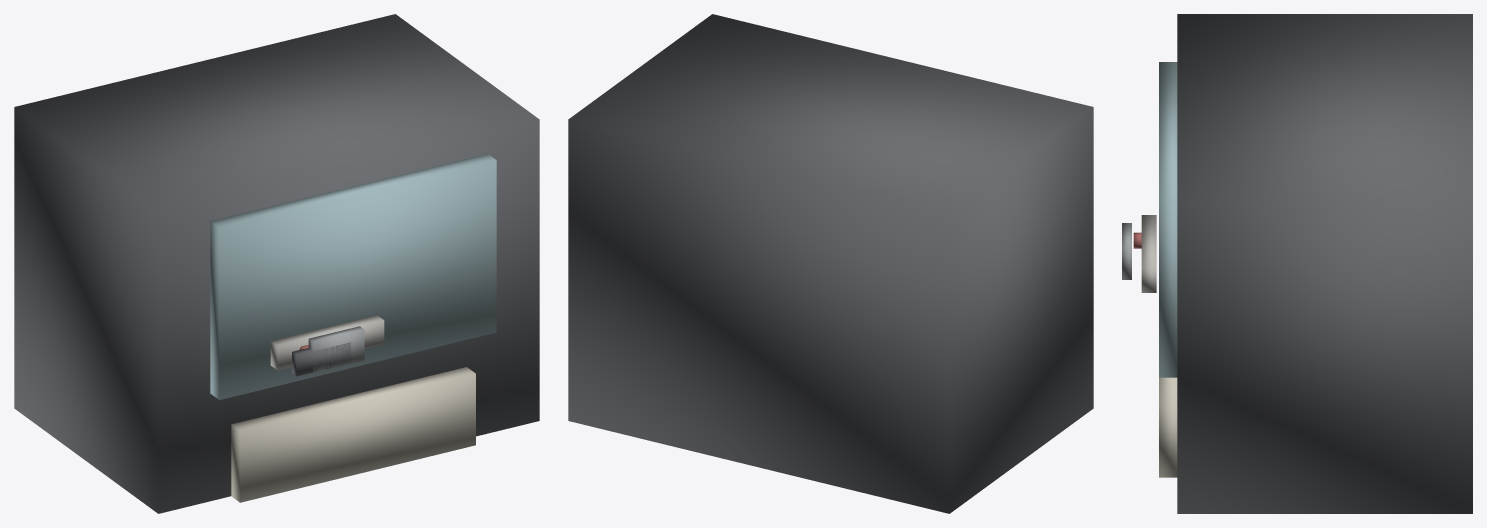
Rendered from microfilm_reader__weathered.glb.
3 views of the same model, side by side, from view 1: azimuth 30°, elevation 25°; view 2: azimuth 150°, elevation 25°; view 3: azimuth 270°, elevation 25° (orthographic). The views are drawn at different scales.
Parts seen in each view (by area): view 1: world; view 2: world; view 3: world.
Part boxes in pixels (<box>): world: <box>14,14,539,513</box>; world: <box>568,14,1093,513</box>; world: <box>1122,14,1472,513</box>.
Bounding box in the file's own units: 0.55 × 0.4158 × 0.4275.
